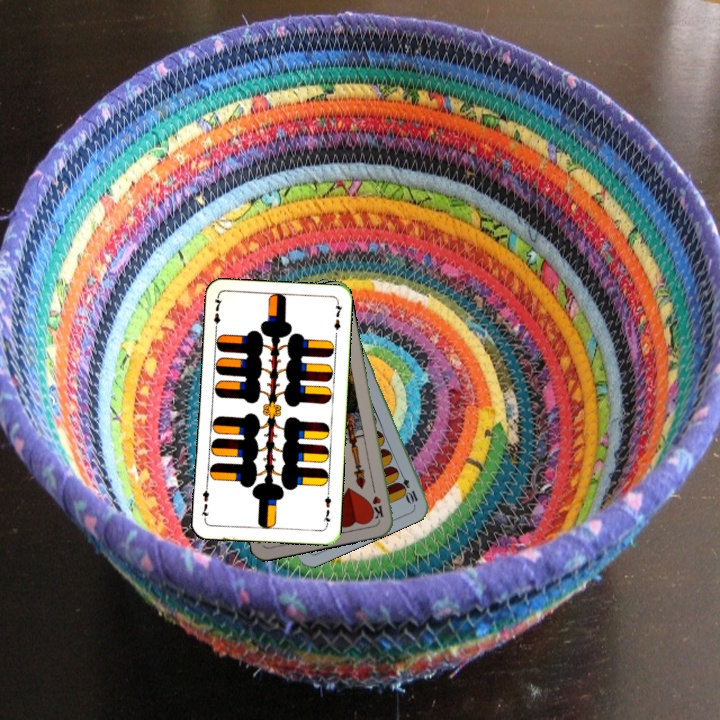E10: (394, 467, 421, 506)
E7: (319, 488, 334, 528), (209, 294, 224, 334)
HK: (368, 481, 386, 522)
